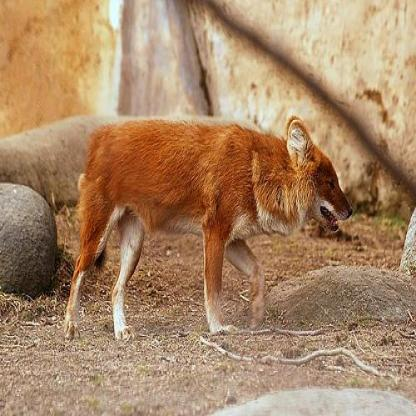dhole: (62, 116, 352, 344)
